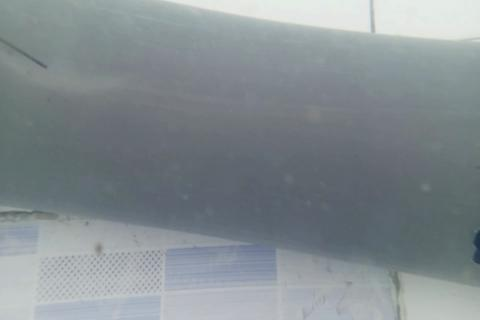kebocoran: (471, 226, 479, 266)
